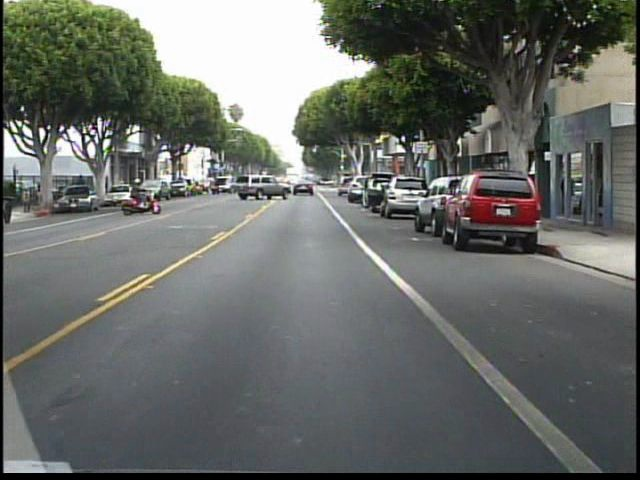person: (132, 179, 155, 213), (77, 172, 94, 207)
